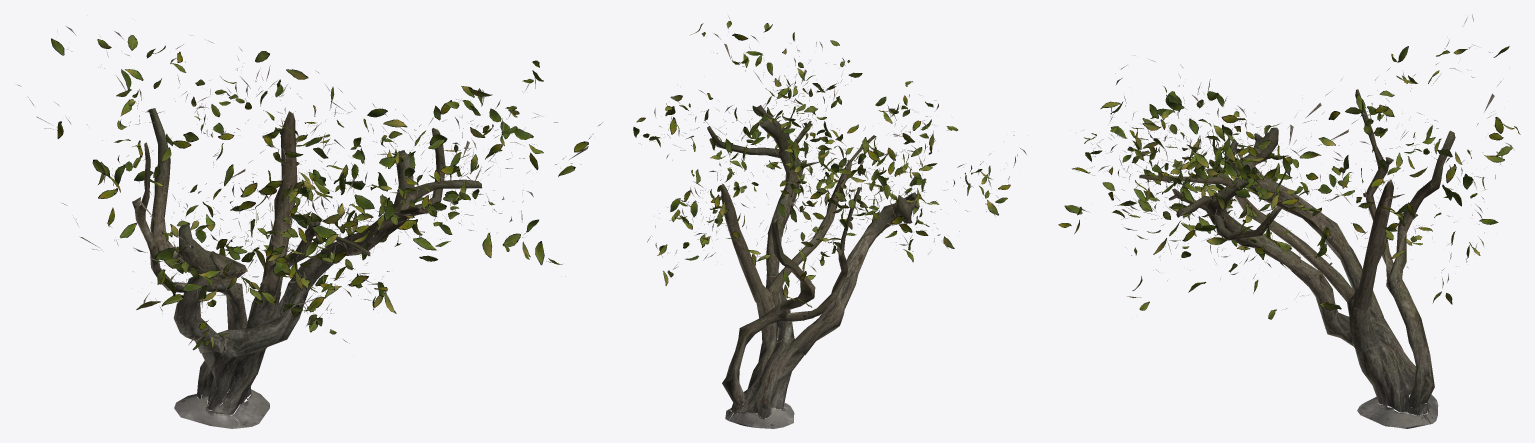
Rendered from island_tree_02.glb.
3 views of the same model, side by side, from view 1: azimuth 30°, elevation 25°; view 2: azimuth 150°, elevation 25°; view 3: azimuth 270°, elevation 25° (orthographic). The views are drawn at different scales.
Visible parts, largest first — view 1: island_tree_02_LOD0; view 2: island_tree_02_LOD0; view 3: island_tree_02_LOD0.
Part boxes in pixels (x1,y1,x2,y2): island_tree_02_LOD0: (17,26,602,428); island_tree_02_LOD0: (633,16,1026,428); island_tree_02_LOD0: (1058,14,1520,428).
Size of the model in its own units: 3.79 by 3.33 by 3.97.
Materials: 3 (3 with a texture image).
